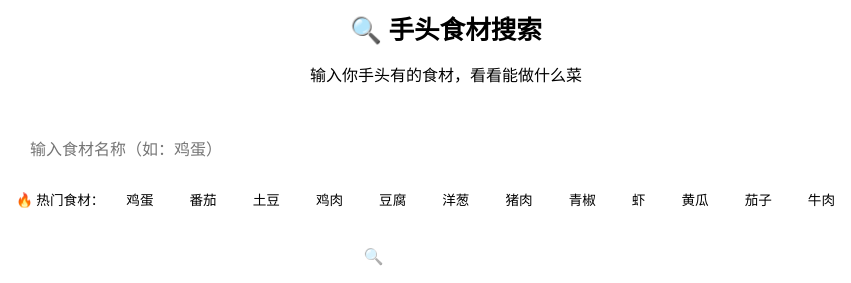
IngredientSearchPage › 热门食材标签可点击
The image size is (851, 283).
Expected: the text "🔥 热门食材：" is shown, [16,189,104,209]
Step 1. Click the button "鸡蛋" → point(140, 199), box [112,183,168,215]
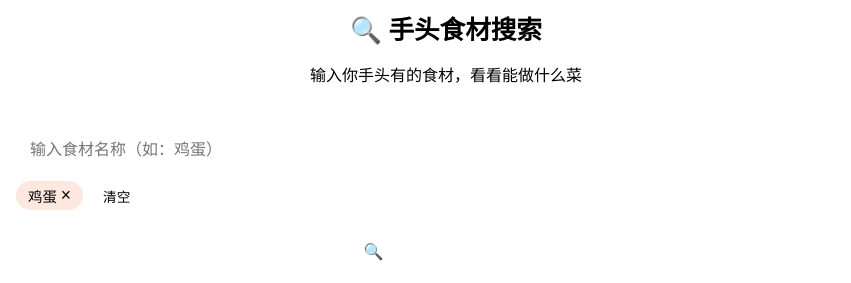
Expected: the text "鸡蛋" is shown, [28,189,57,205]
